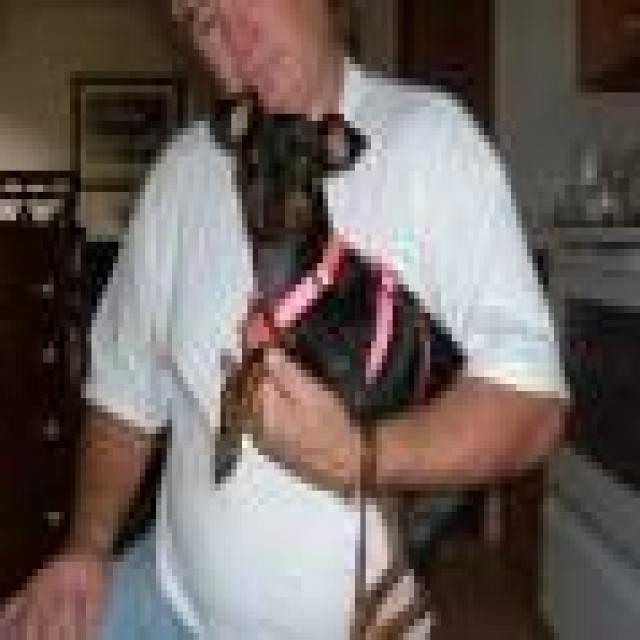cat: (173, 70, 518, 640)
